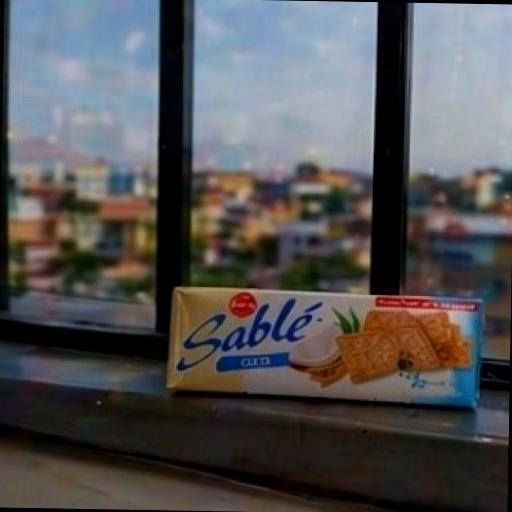sabl: (110, 237, 512, 498)
